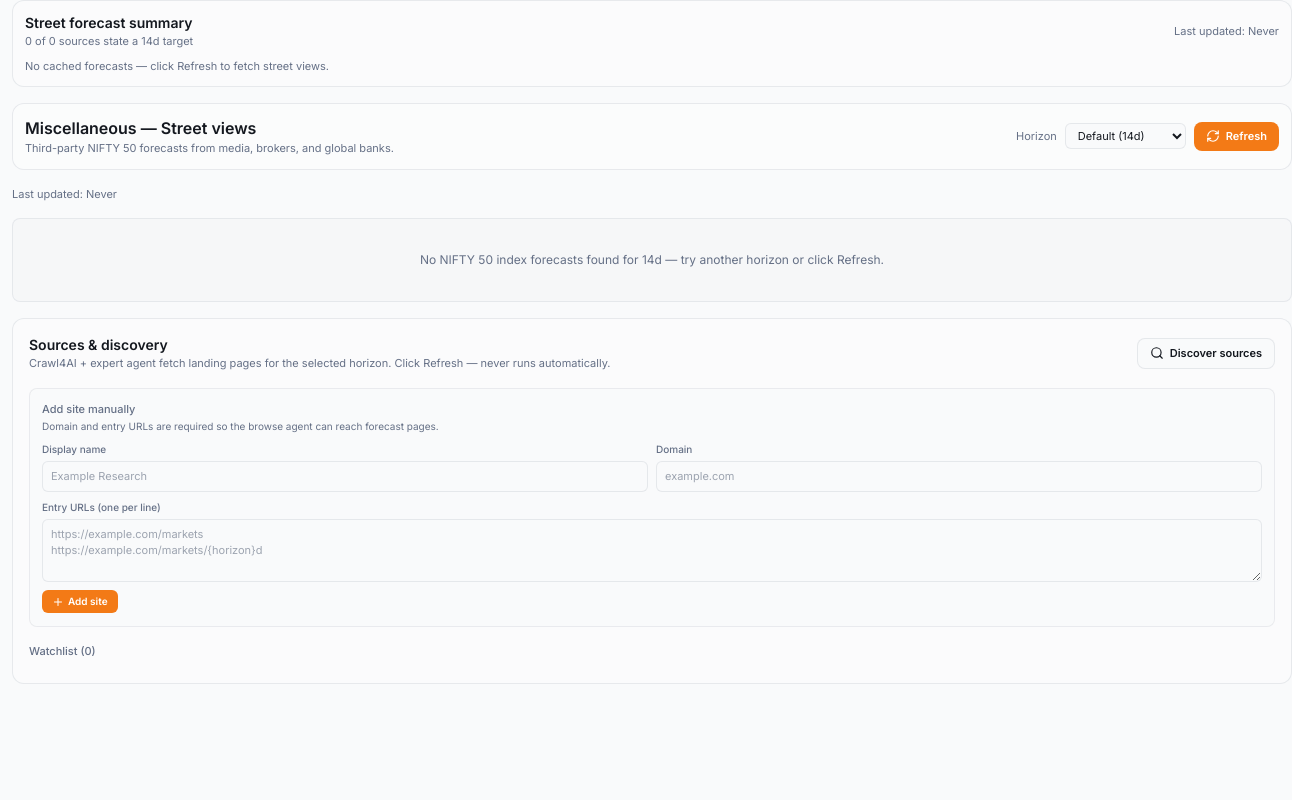
Test case: a failed request is shown in its section › discovering sources fails loudly instead of becoming an unhandled rejection
Click the button "Discover sources" at (1206,353), box [1137,338,1275,368]
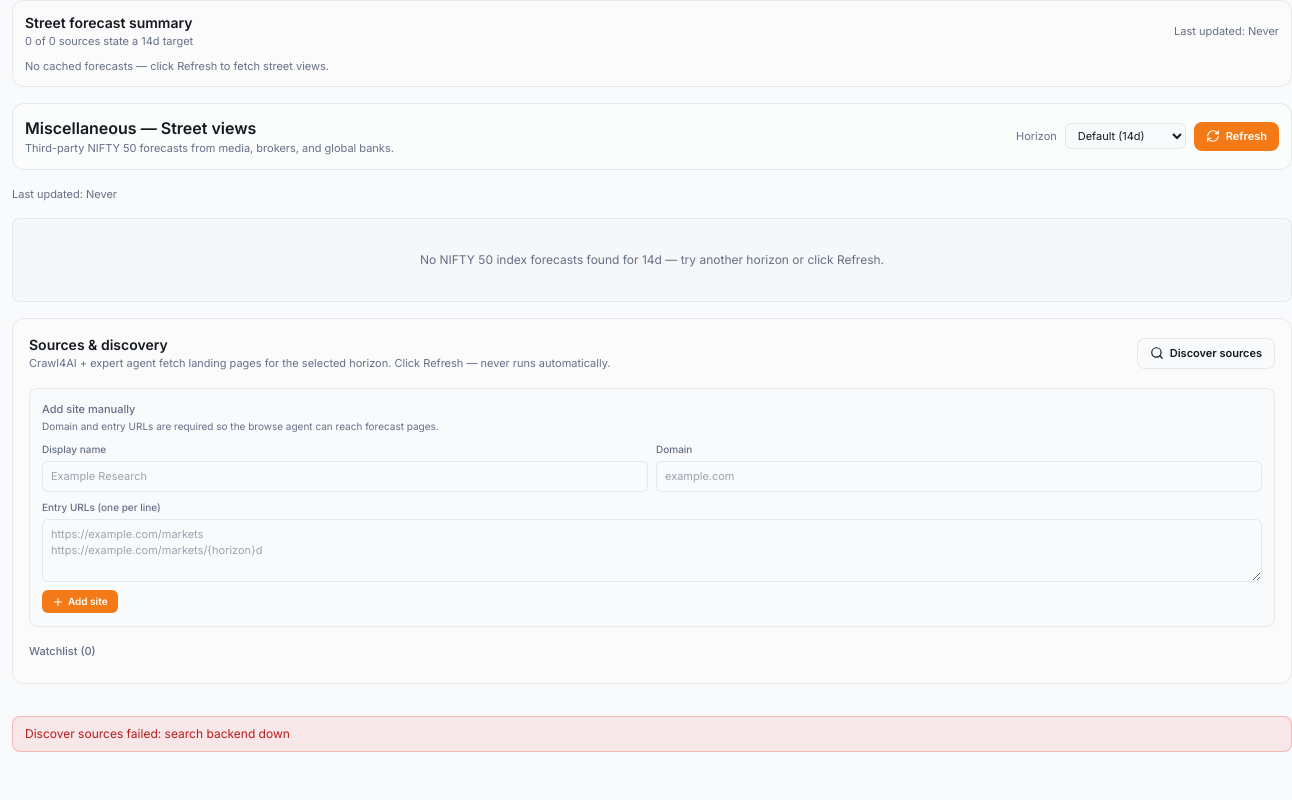
expect the text "Discover sources failed: search backend down" is shown: met, box [12,716,1291,752]
